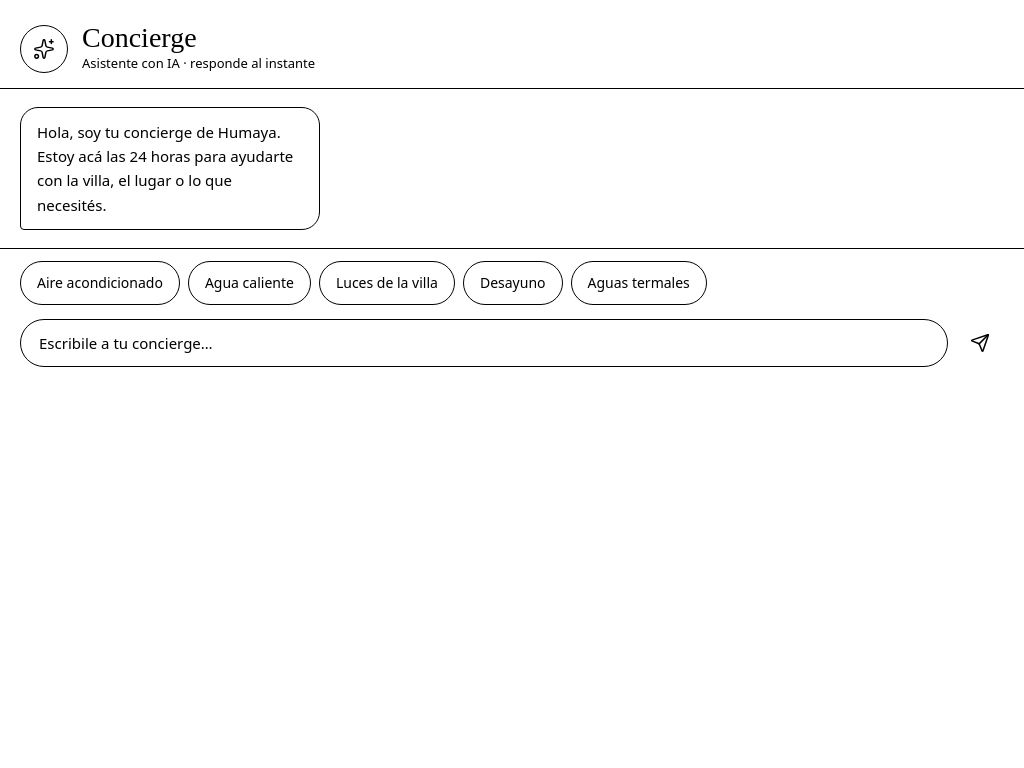
Test: Concierge › las sugerencias rápidas también preguntan
What coordinates should you click on to do the following:
click the button "Desayuno"
I would click on:
 (513, 283)
Its box is [463,261,562,305].
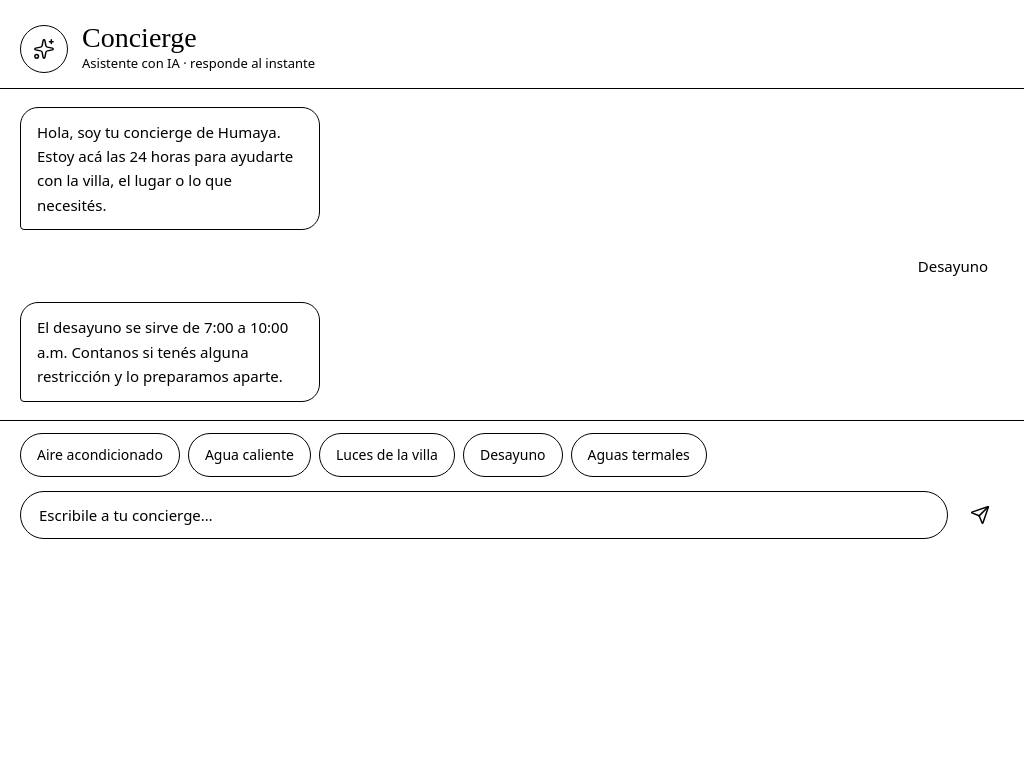
Expected: the text "de 7:00 a 10:00 a.m." is shown, [37,317,288,386]
